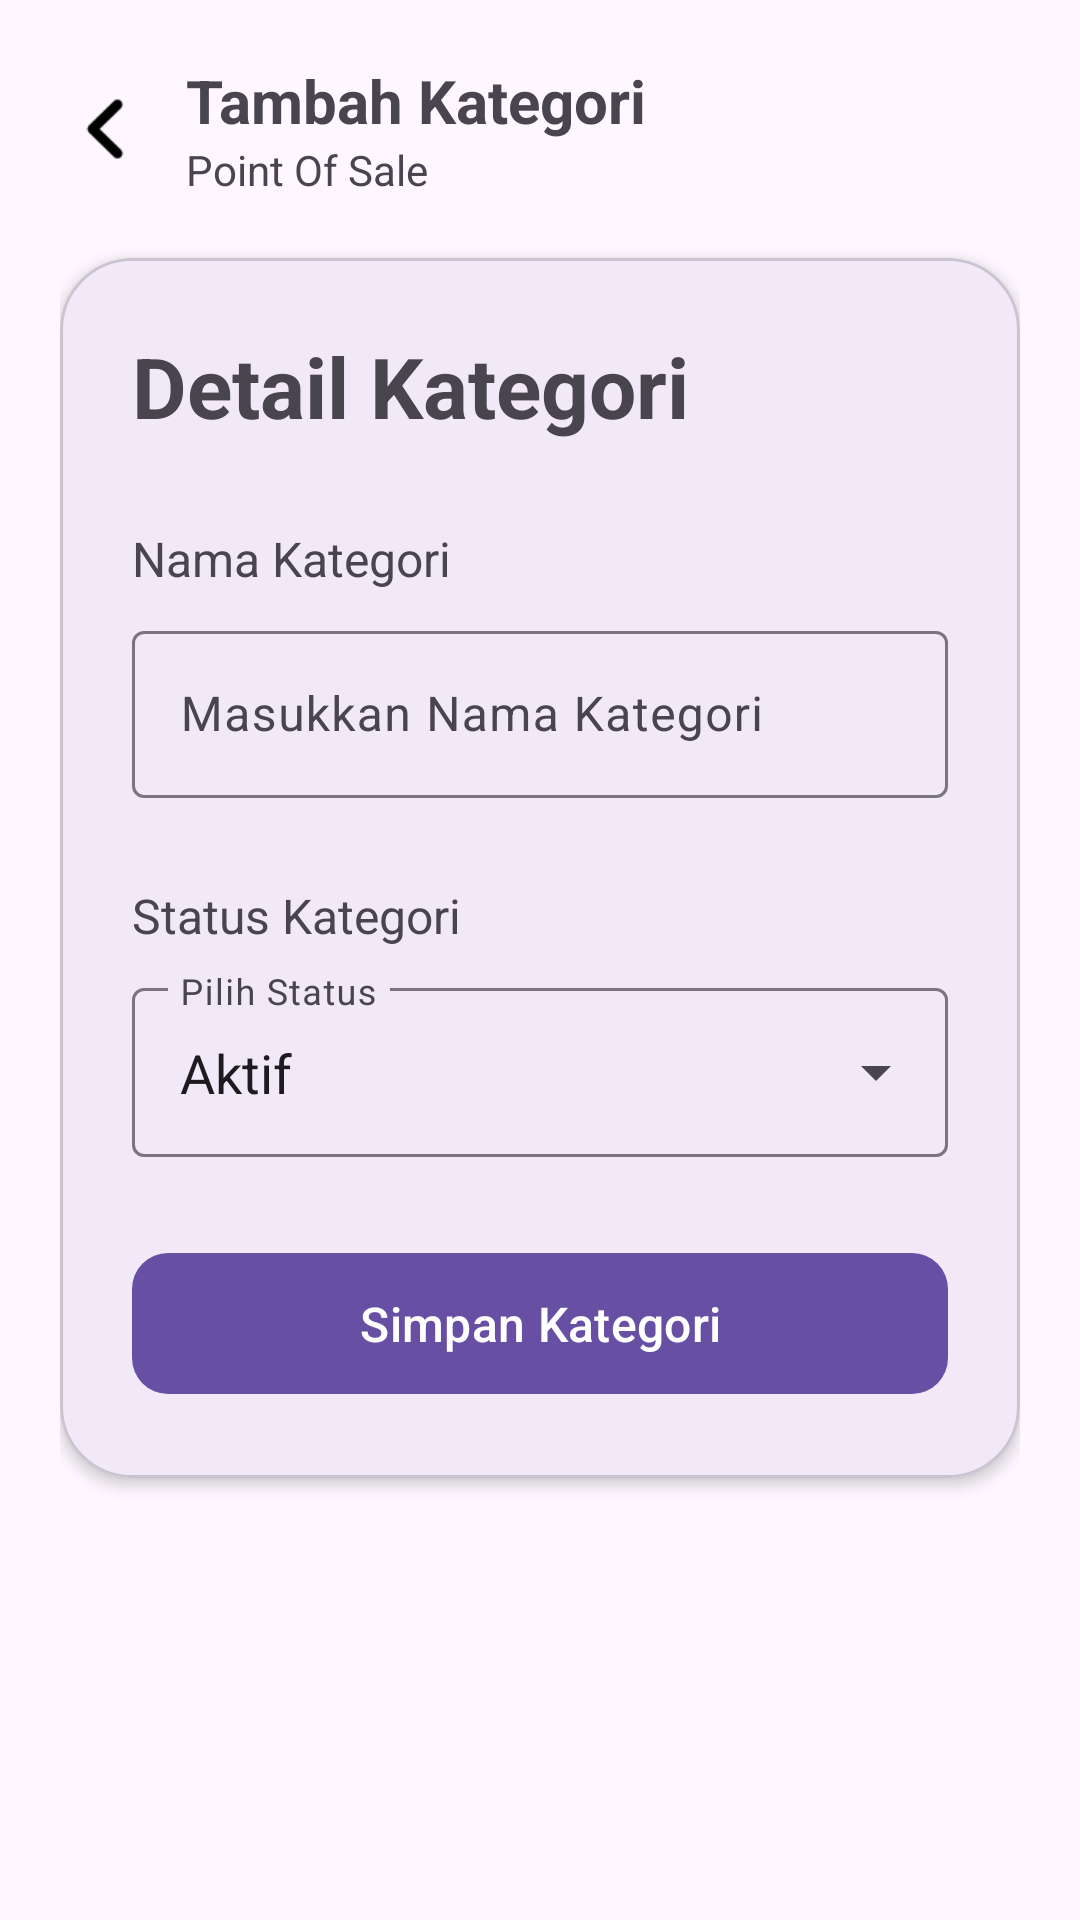

Locate icon controls on the screen. Image size 1080*1920, boxes as (x1, y1, x2, y2).
kembali: (86, 99, 124, 159)
